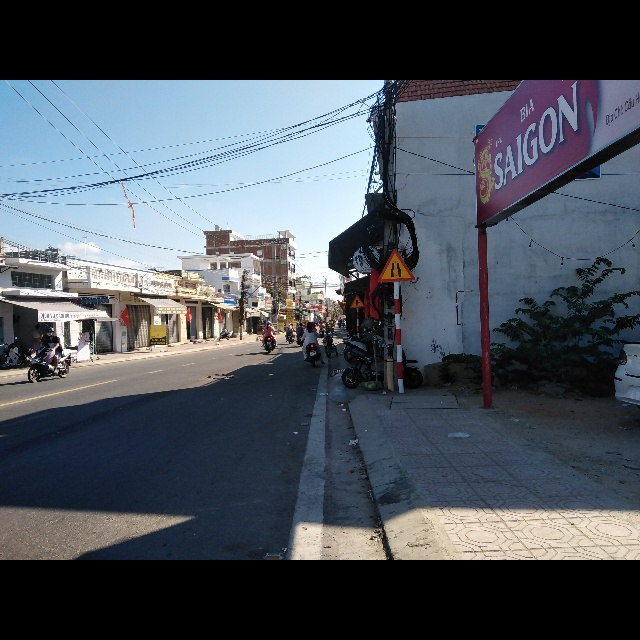Đường bị hẹp cả hai bên: (378, 250, 418, 283)
